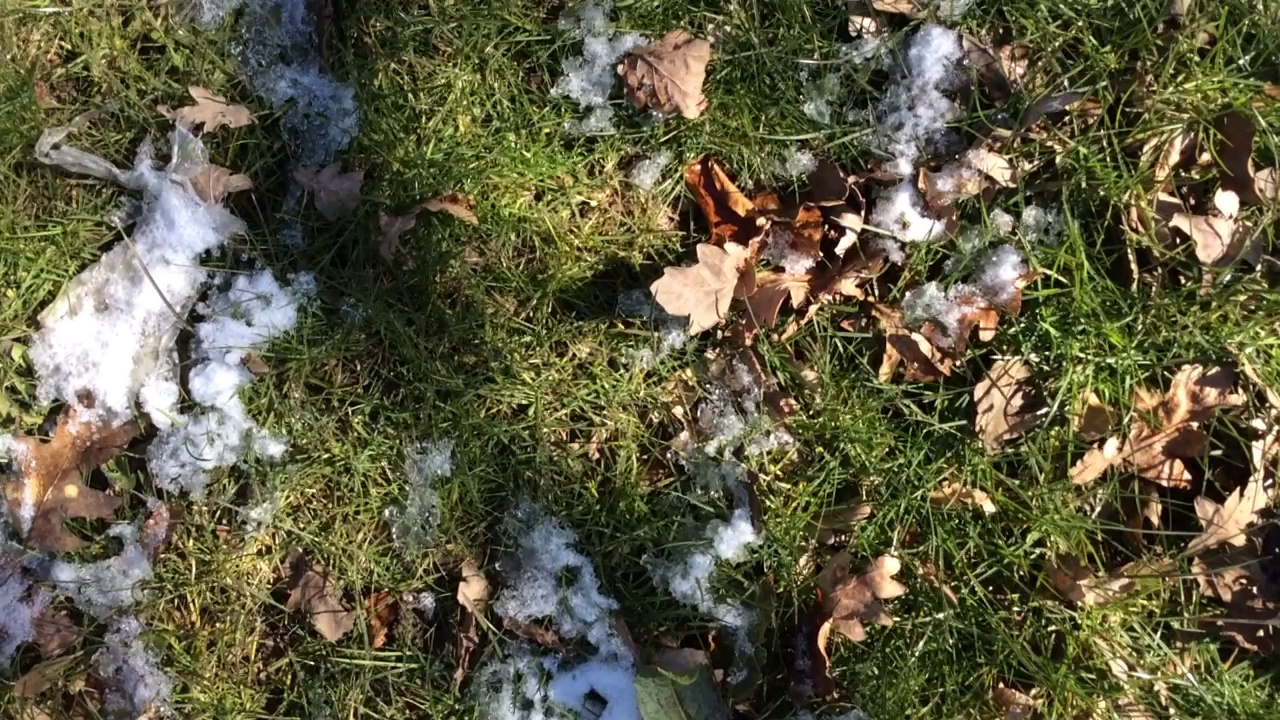rumex: (622, 658, 737, 720)
